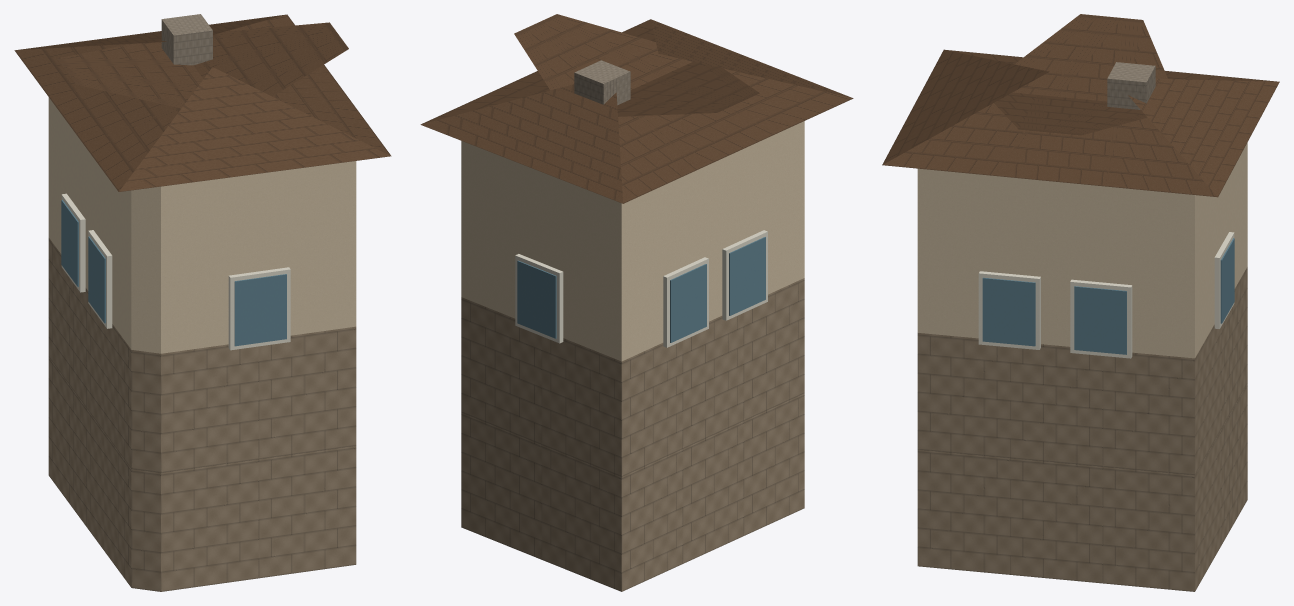
The model's file is core_0035.gltf.
3 views of the same model, side by side, from view 1: azimuth 30°, elevation 25°; view 2: azimuth 150°, elevation 25°; view 3: azimuth 270°, elevation 25° (orthographic). The views are drawn at different scales.
Parts seen in each view (by area): view 1: core_0035; view 2: core_0035; view 3: core_0035.
Part boxes in pixels (x1,y1,x2,y2): core_0035: (14, 14, 391, 591); core_0035: (420, 14, 853, 591); core_0035: (882, 14, 1279, 591).
Size of the model in its own units: 6.49 by 9.55 by 7.4.
Materials: 6 (6 with a texture image).
